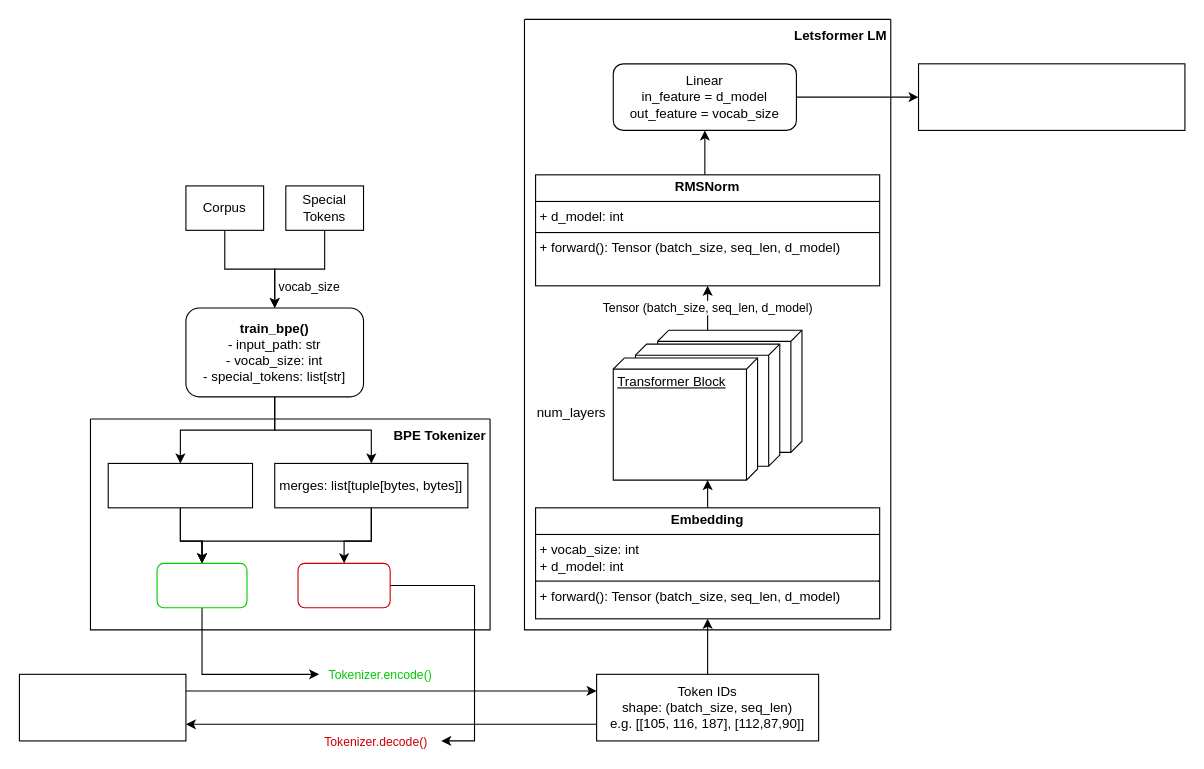
Image size: 1204x769. Some labels were removed from this diagram. The shapes that lost their labels are listed below. From the top down, each one's centre as x and y in pixels, then its label:
(x=1051, y=96): Output Tensor (batch_size, seq_len, vocab_size)
(x=180, y=485): vocab: dict[int, bytes]
(x=201, y=585): encode()
(x=343, y=585): decode()
(x=102, y=707): Text e.g. "low lower lowest"
